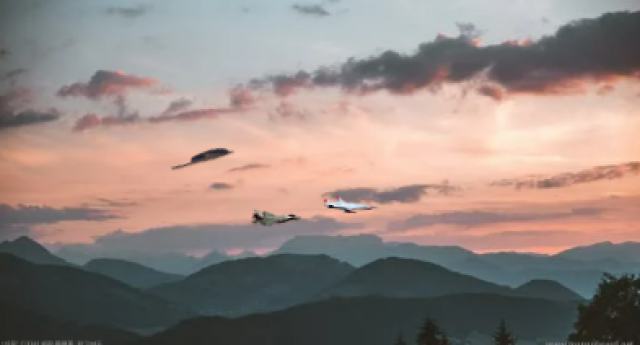airplane: (250, 208, 302, 226)
military drone: (169, 147, 235, 170), (323, 195, 379, 213)
